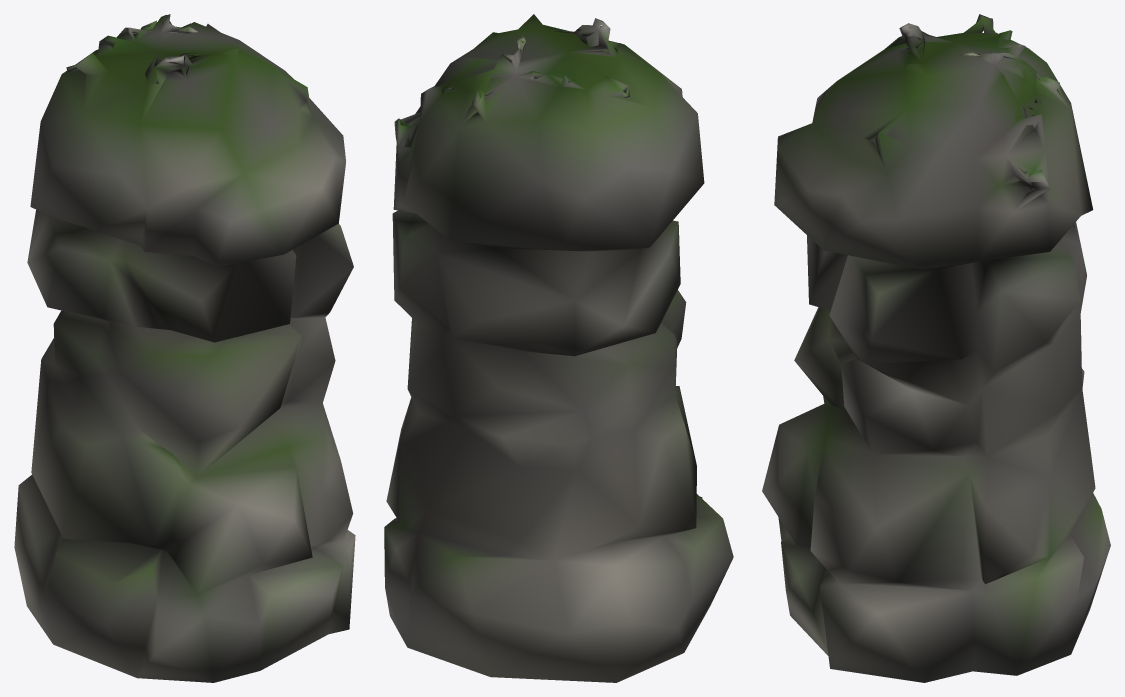
File: stiddiosa-rock-a.glb
3 renders of one model, left to right at view 1: azimuth 30°, elevation 25°; view 2: azimuth 150°, elevation 25°; view 3: azimuth 270°, elevation 25°, orthographic. The views are drawn at different scales.
Bounding box in the file's own units: 0.977 × 1.95 × 1.06.
